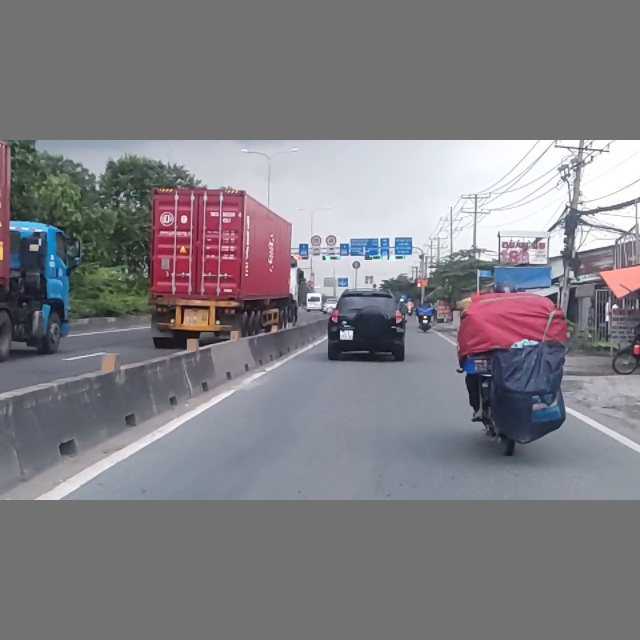P.127*60: (325, 235, 337, 246)
P.127*80: (311, 235, 321, 246)
